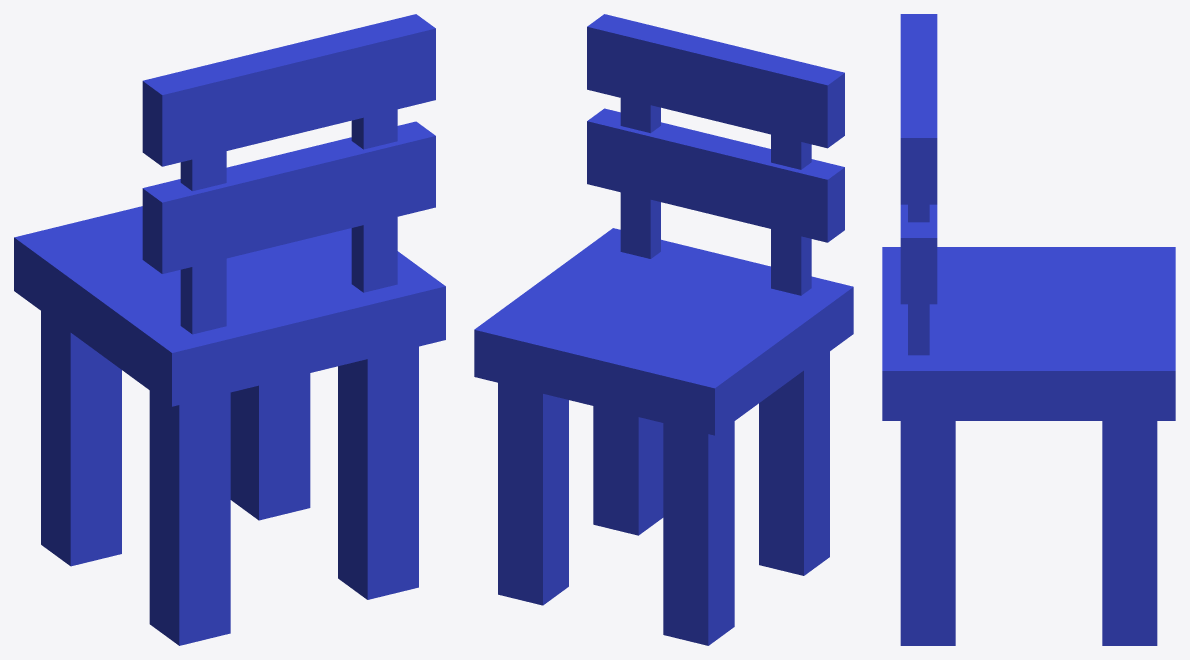
File: chair_m1.fbx
The picture shows the model from 3 angles, left to right: view 1: azimuth 30°, elevation 25°; view 2: azimuth 150°, elevation 25°; view 3: azimuth 270°, elevation 25°; orthographic projection. The views are drawn at different scales.
Parts seen in each view (by area): view 1: Chair; view 2: Chair; view 3: Chair.
Part boxes in pixels (<box>): Chair: <box>14,14,445,645</box>; Chair: <box>474,14,853,645</box>; Chair: <box>882,14,1175,645</box>.
Bounding box in the file's own units: 1.6 × 3.1 × 1.6.
